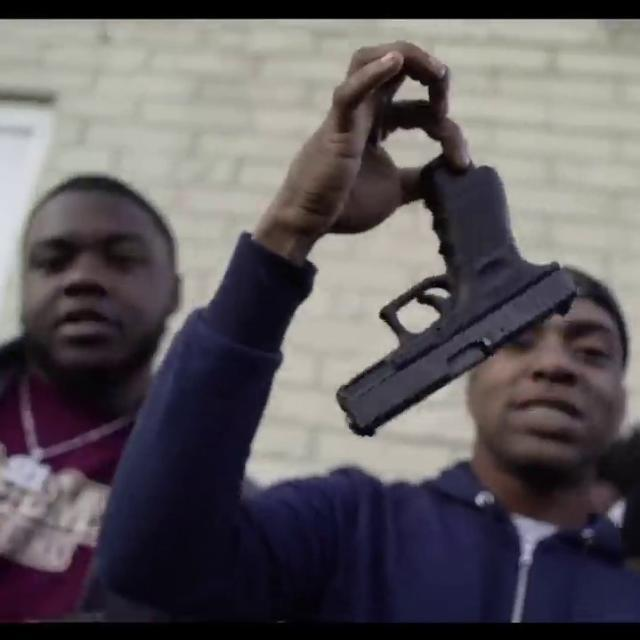Handgun: (342, 176, 576, 437)
